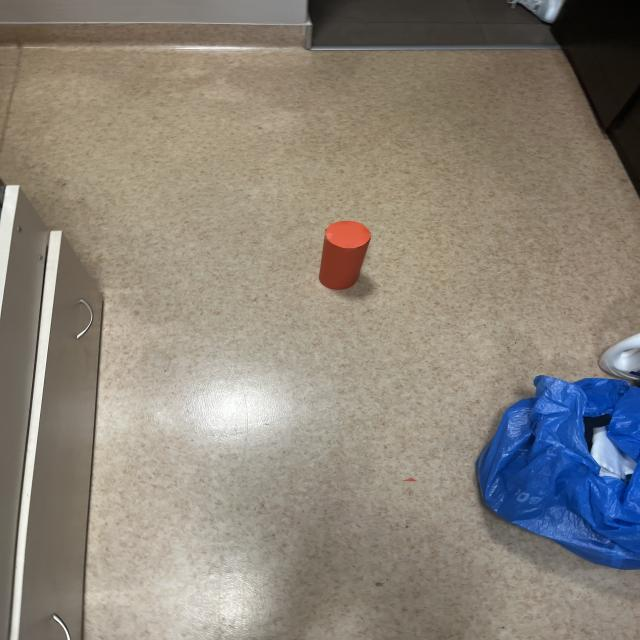przeszkoda: (319, 221, 371, 290)
